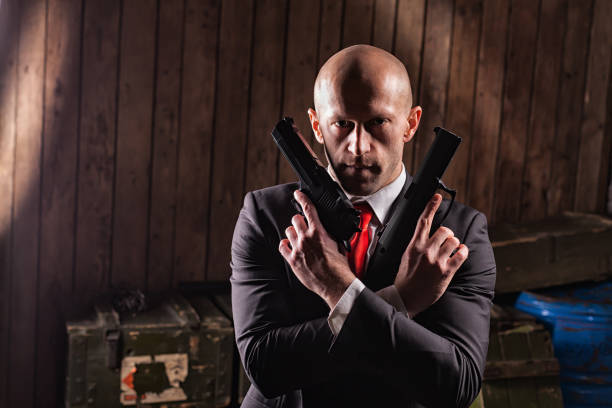gun: (271, 116, 362, 252), (376, 127, 463, 261)
